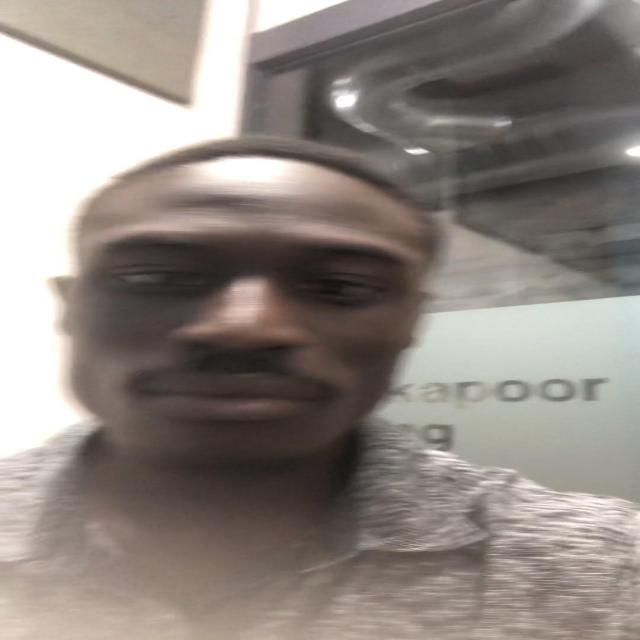face: (64, 204, 437, 472)
